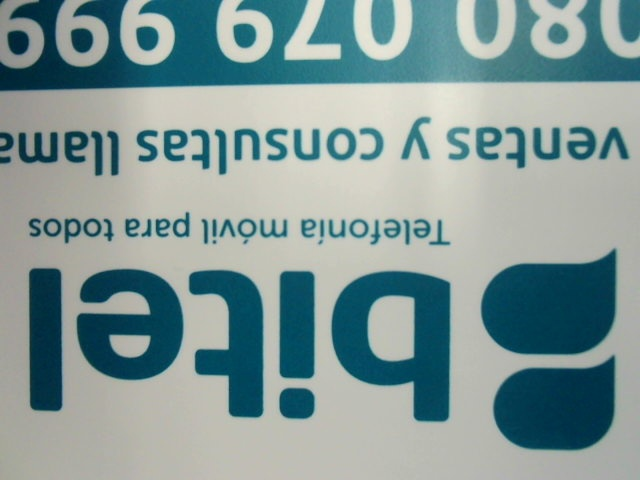BE_bitel: (13, 251, 627, 450)
